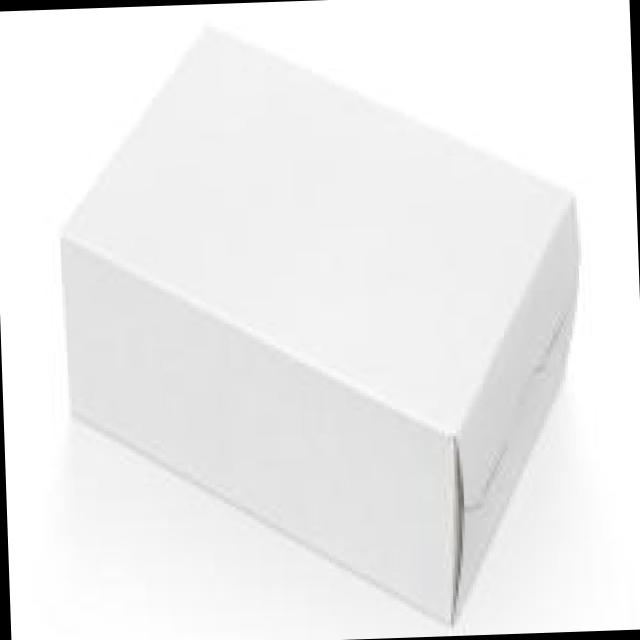box: (63, 28, 578, 627)
